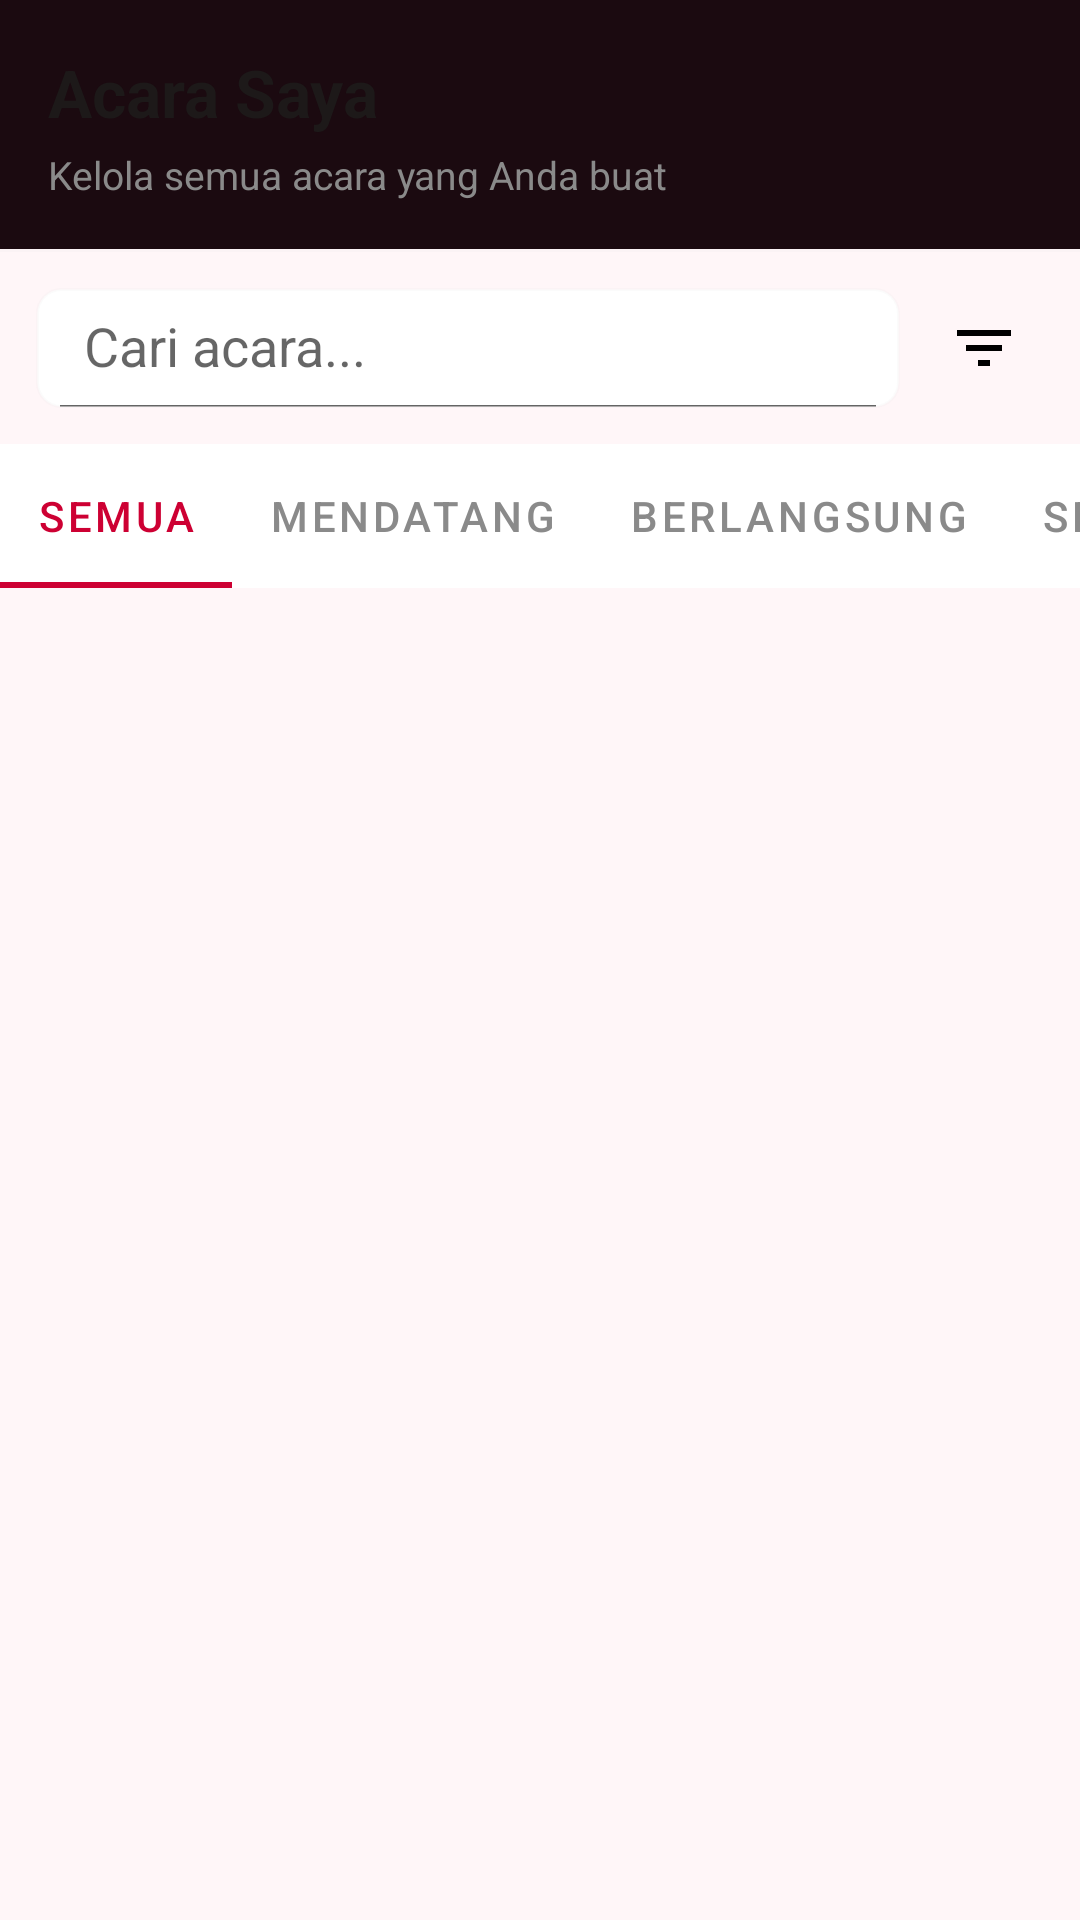

Icons on this 1080×1920 Android screen, each with its box as (x1, y1, x2, y2):
Filter: (957, 330, 1011, 366)
